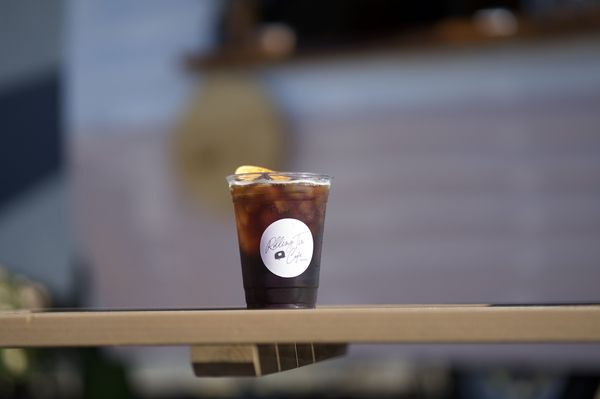soup: (227, 165, 332, 311)
